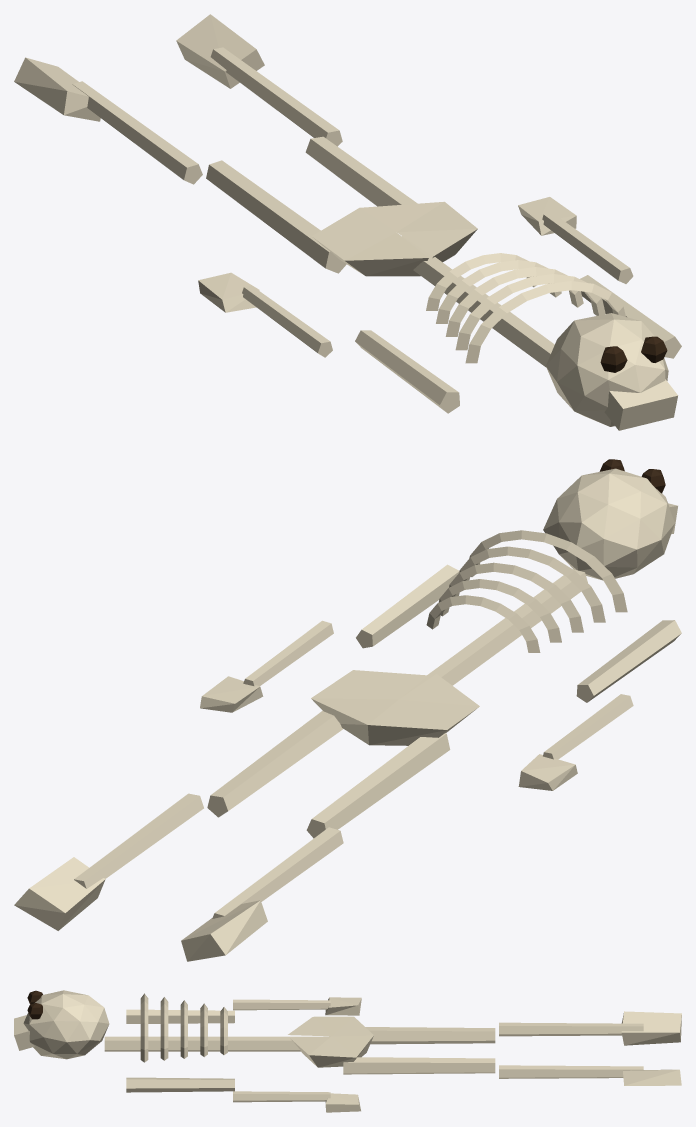
The model's file is skeleton.glb.
The picture shows the model from 3 angles, top to bottom: view 1: azimuth 30°, elevation 25°; view 2: azimuth 150°, elevation 25°; view 3: azimuth 270°, elevation 25°; orthographic projection. The views are drawn at different scales.
Visible parts, largest first — view 1: pelvis, cranium, thighR, shinR, footL, shinL, spine, thighL, footR, upperArmR, jaw, rib0 (+9 smaller); view 2: cranium, pelvis, thighR, thighL, spine, footL, shinL, footR, shinR, upperArmR, upperArmL, rib0 (+8 smaller); view 3: cranium, pelvis, spine, thighL, thighR, shinR, shinL, footR, upperArmL, upperArmR, foreArmL, foreArmR (+10 smaller).
Boxes of the visible parts, x1,y1,x2,y2 form: pelvis: (312,201,477,276); cranium: (546,313,668,426); thighR: (206,160,346,273); shinR: (72,81,202,184); footL: (176,14,264,88); shinL: (210,47,342,146); spine: (402,236,554,367); thighL: (305,136,417,206); footR: (14,57,100,121); upperArmR: (355,330,459,413); jaw: (604,379,678,430); rib0: (465,281,625,363); cranium: (543,468,674,580); pelvis: (311,670,479,745); thighR: (306,733,450,838); thighL: (207,710,343,817); spine: (400,569,587,698); footL: (14,857,105,930); shinL: (74,793,203,888); footR: (181,900,267,961); shinR: (212,827,343,918); upperArmR: (576,620,681,702); upperArmL: (356,564,459,648); rib0: (469,530,627,612); cranium: (23,990,109,1059); pelvis: (288,1016,373,1067); spine: (104,1036,319,1051); thighL: (343,1057,495,1074); thighR: (365,1027,495,1044); shinR: (499,1022,643,1036); shinL: (499,1065,643,1078); footR: (621,1011,681,1045); upperArmL: (126,1077,234,1092); upperArmR: (126,1009,234,1023); foreArmL: (233,1091,330,1102); foreArmR: (233,999,330,1010).
Bounding box in the file's own units: 0.7027 × 0.219 × 1.85.
